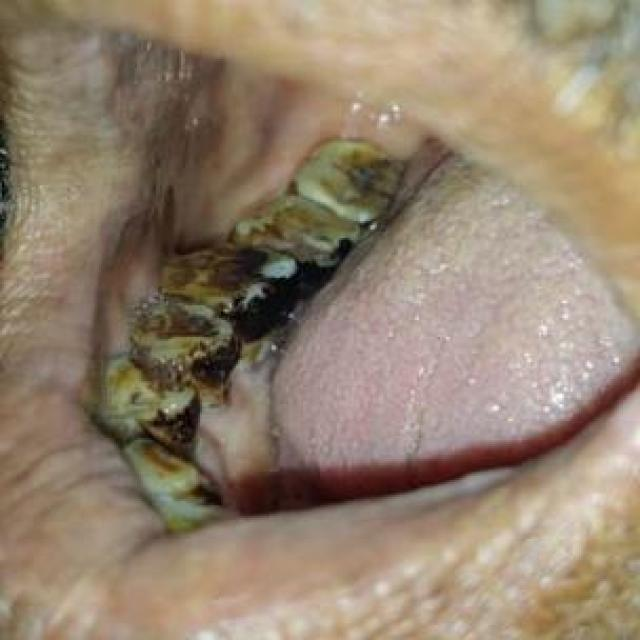processing_area: (2, 7, 638, 556)
